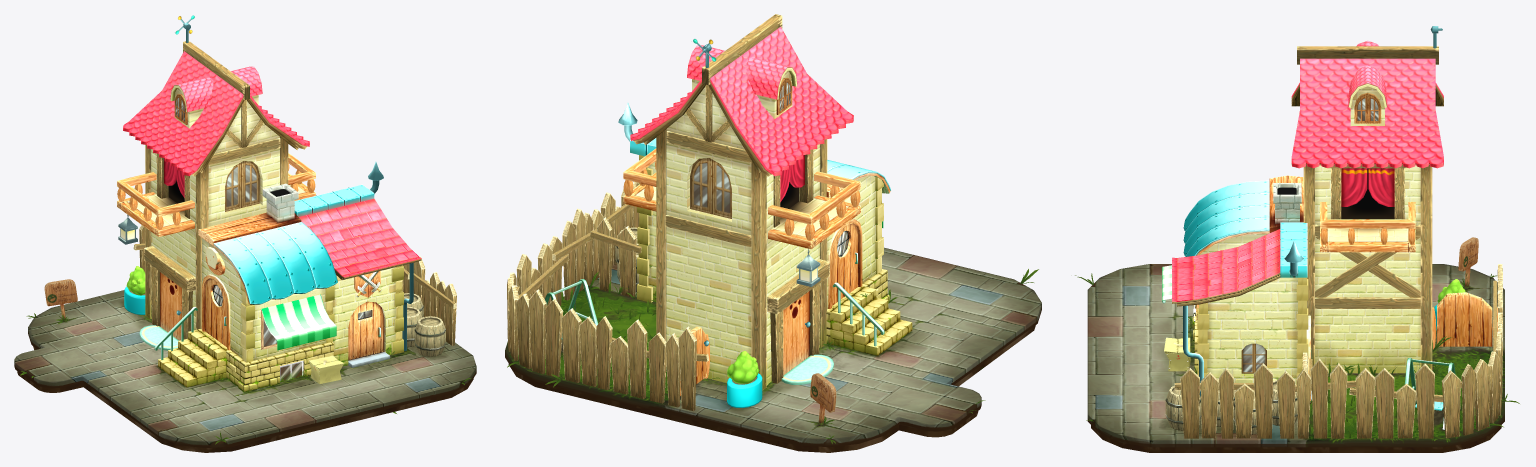
File: mode_2.glb
The picture shows the model from 3 angles, left to right: view 1: azimuth 30°, elevation 25°; view 2: azimuth 150°, elevation 25°; view 3: azimuth 270°, elevation 25°; orthographic projection. The views are drawn at different scales.
Parts seen in each view (by area): view 1: miniHouse_Part4, miniHouse_Part1, miniHouse_Part2_House Part 02_0, miniHouse_Part3_miniHouse_Part3_0; view 2: miniHouse_Part1, miniHouse_Part4, miniHouse_Part3_miniHouse_Part3_0, miniHouse_Part2_House Part 02_0, miniHouse_Part4_grassStrands_miniHouse_Part4_0; view 3: miniHouse_Part1, miniHouse_Part3_miniHouse_Part3_0, miniHouse_Part4, miniHouse_Part2_House Part 02_0, miniHouse_Part4_grassStrands_miniHouse_Part4_0.
Part boxes in pixels (x1,y1,x2,y2): miniHouse_Part4: [14, 279, 476, 452]; miniHouse_Part1: [117, 22, 315, 350]; miniHouse_Part2_House Part 02_0: [154, 183, 403, 392]; miniHouse_Part3_miniHouse_Part3_0: [133, 161, 456, 367]; miniHouse_Part1: [623, 14, 860, 407]; miniHouse_Part4: [505, 247, 1041, 452]; miniHouse_Part3_miniHouse_Part3_0: [507, 103, 708, 411]; miniHouse_Part2_House Part 02_0: [545, 155, 912, 355]; miniHouse_Part4_grassStrands_miniHouse_Part4_0: [507, 269, 1038, 443]; miniHouse_Part1: [1291, 26, 1497, 373]; miniHouse_Part3_miniHouse_Part3_0: [1165, 222, 1502, 438]; miniHouse_Part4: [1087, 237, 1504, 452]; miniHouse_Part2_House Part 02_0: [1162, 175, 1455, 429]; miniHouse_Part4_grassStrands_miniHouse_Part4_0: [1075, 273, 1519, 440].
Size of the model in its own units: 582 by 474 by 541.
Materials: 5 (5 with a texture image).
